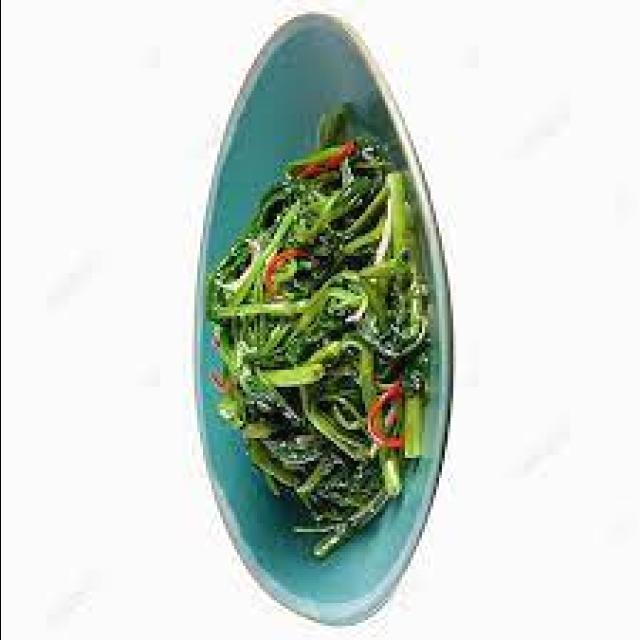tumis kangkung: (209, 114, 451, 574)
